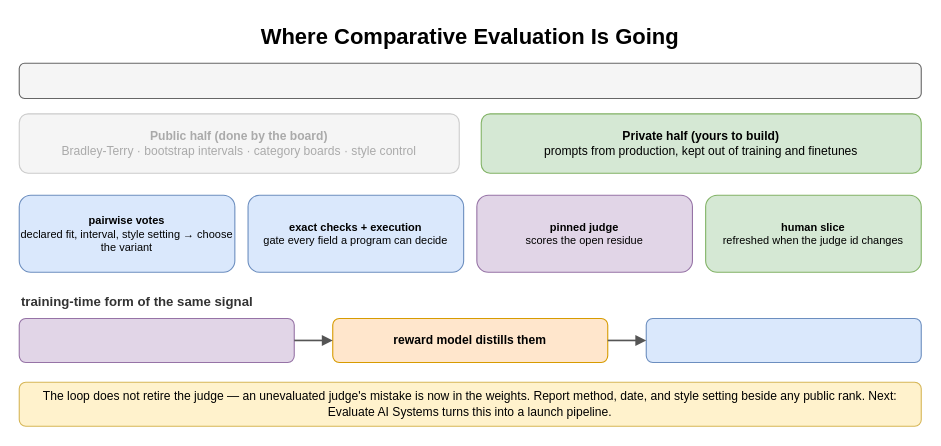
The diagram is 941 pixels wide and 446 high, and some of its shapes have lost their labels. Here are the shapes that lost their labels. From the top down, the box of each, then its label:
(18, 62, 921, 98): A standing system the team runs — not a single automatic number
(18, 317, 294, 362): judge labels pairs
(645, 317, 921, 362): policy updates
